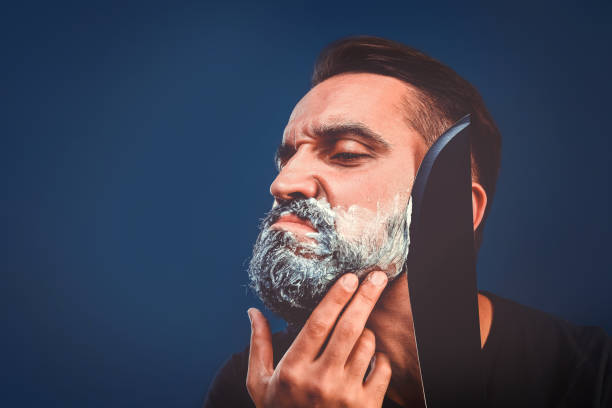knife: (404, 107, 486, 408)
